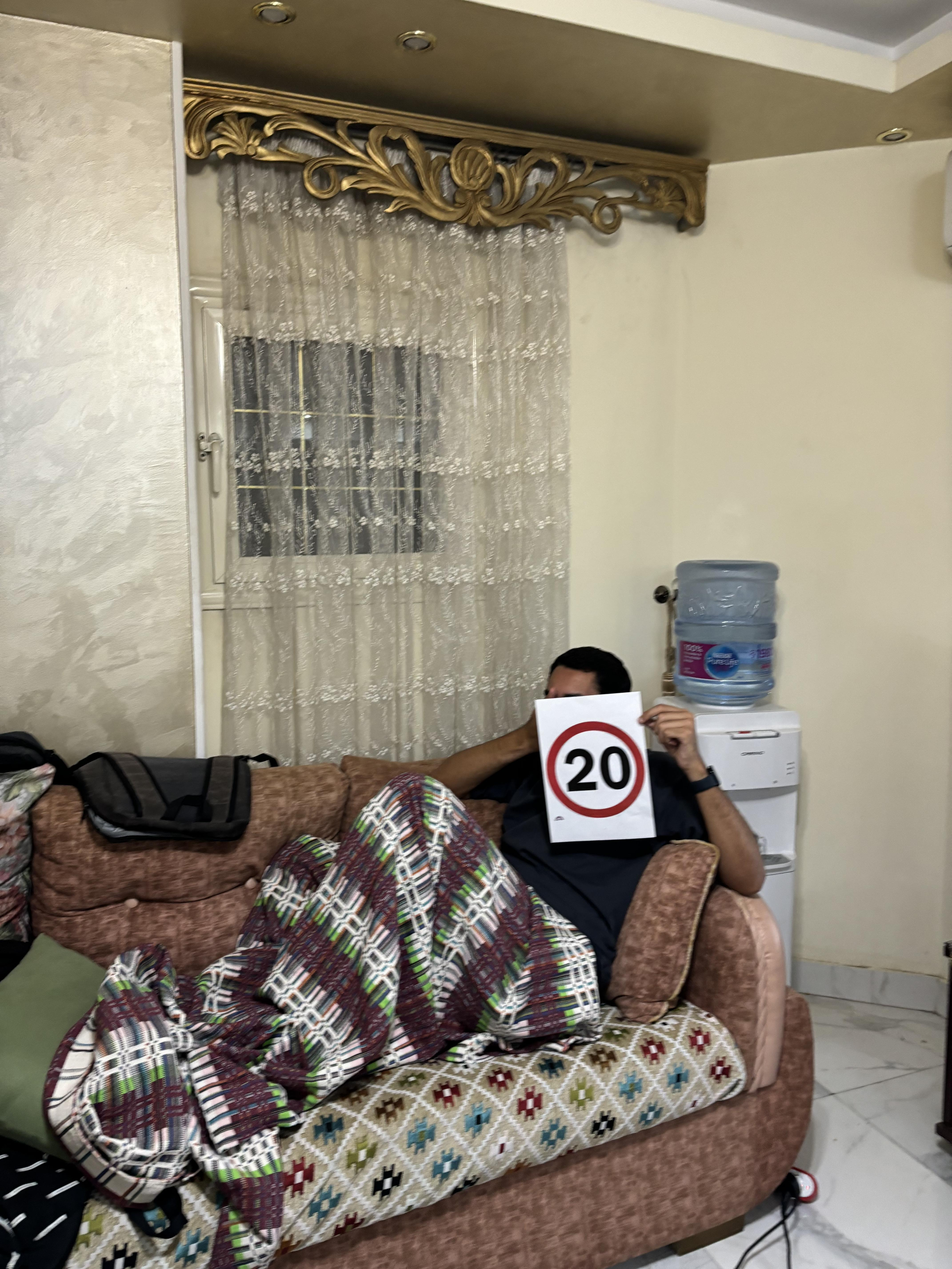20-Speed: (543, 714, 649, 822)
